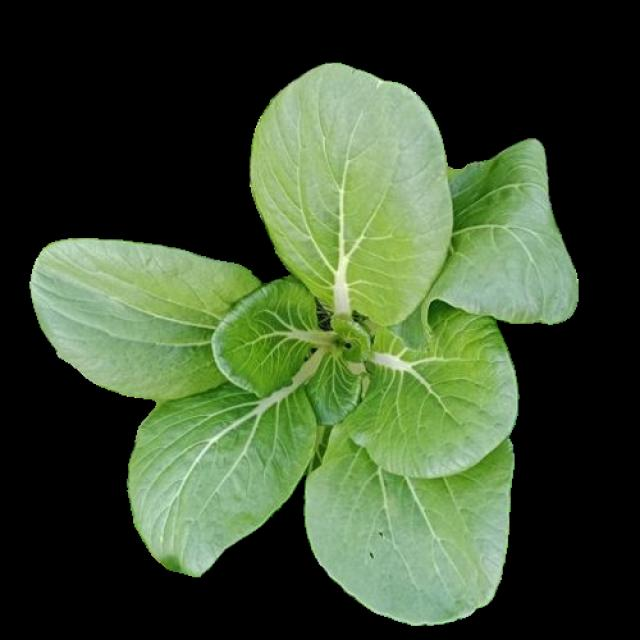mature: (34, 69, 578, 621)
unhealthy: (305, 443, 513, 622)
